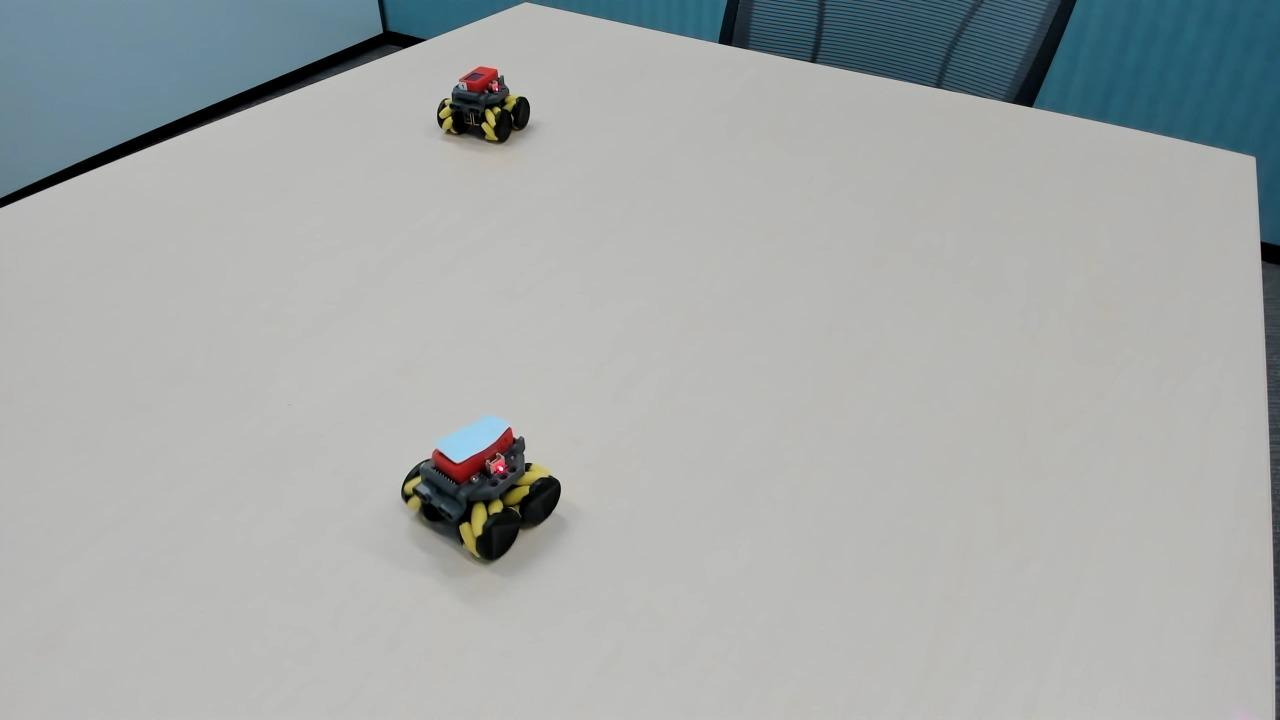B-Robot: (388, 410, 572, 584)
R-Robot: (425, 53, 545, 159)
